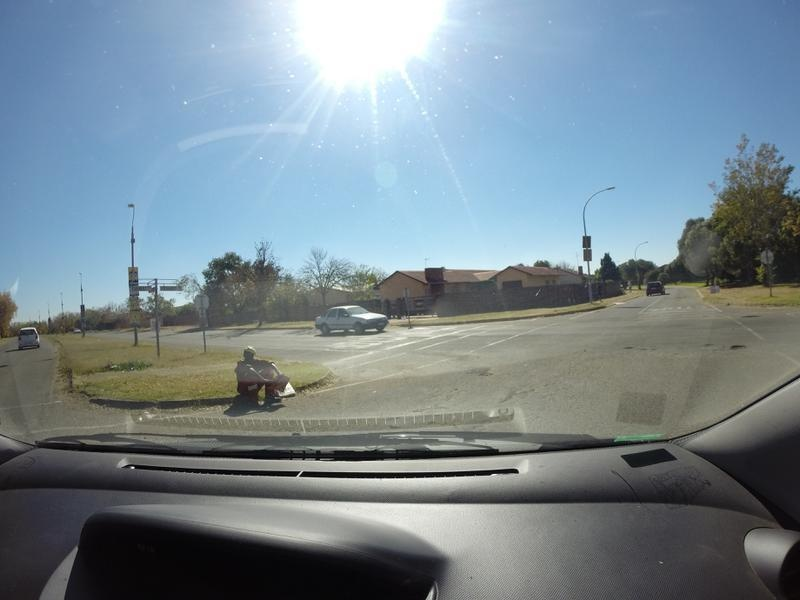pothole: (728, 340, 748, 358), (738, 309, 764, 318)
